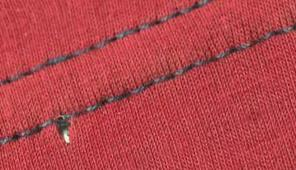hole: (56, 122, 76, 147)
